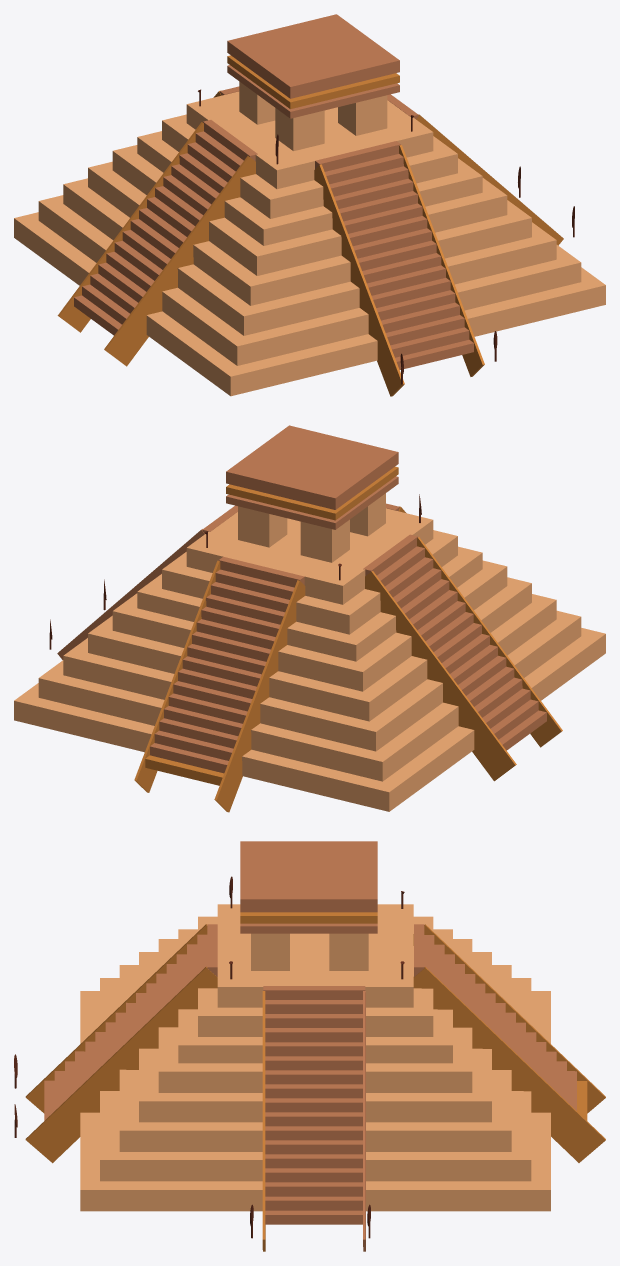
The model's file is Piramide_sozinha.gltf.
The picture shows the model from 3 angles, top to bottom: view 1: azimuth 30°, elevation 25°; view 2: azimuth 150°, elevation 25°; view 3: azimuth 270°, elevation 25°; orthographic projection. The views are drawn at different scales.
Parts seen in each view (by area): view 1: Base.007, Base.006, Base.005, Base.004, Cube.004, Base, Base.003, Base.002, Base.001, Corrimao.002, corrimao.001, Cube.006 (+41 smaller); view 2: Base.007, Base.006, Base.005, Base.004, Cube.004, Base, Base.003, Base.002, Base.001, corrimao.002, Corrimao.003, Cube.006 (+41 smaller); view 3: Base.007, Base.006, Base.005, Base, Base.004, Cube.004, Base.003, Base.002, corrimao.003, Corrimao.001, Base.001, corrimao.001 (+24 smaller).
Boxes of the visible parts, box(x1,y1,x2,y2) form: Base.007: box(14, 212, 605, 396); Base.006: box(38, 195, 581, 365); Base.005: box(63, 178, 556, 335); Base.004: box(88, 161, 531, 305); Cube.004: box(227, 14, 399, 98); Base: box(186, 91, 433, 189); Base.003: box(112, 145, 507, 275); Base.002: box(137, 131, 482, 245); Base.001: box(162, 114, 457, 218); Corrimao.002: box(104, 156, 255, 366); corrimao.001: box(314, 164, 404, 396); Cube.006: box(227, 55, 399, 109); Base.007: box(14, 628, 605, 811); Base.006: box(38, 610, 581, 781); Base.005: box(63, 594, 556, 751); Base.004: box(88, 577, 531, 721); Cube.004: box(226, 425, 398, 509); Base: box(186, 508, 433, 604); Base.003: box(112, 560, 507, 691); Base.002: box(137, 546, 482, 661); Base.001: box(162, 530, 457, 634); corrimao.002: box(365, 571, 516, 781); Corrimao.003: box(214, 580, 305, 812); Cube.006: box(226, 466, 398, 520); Base.007: box(80, 991, 550, 1211); Base.006: box(100, 978, 531, 1181); Base.005: box(119, 965, 511, 1151); Base: box(217, 904, 413, 1007); Base.004: box(139, 952, 491, 1122); Cube.004: box(240, 841, 377, 912); Base.003: box(158, 939, 472, 1092); Base.002: box(178, 929, 452, 1063); corrimao.003: box(413, 967, 605, 1162); Corrimao.001: box(25, 966, 217, 1163); Base.001: box(198, 916, 433, 1036); corrimao.001: box(25, 924, 207, 1113).
Bounding box in the file's own units: 29.69 × 15.26 × 30.19.
